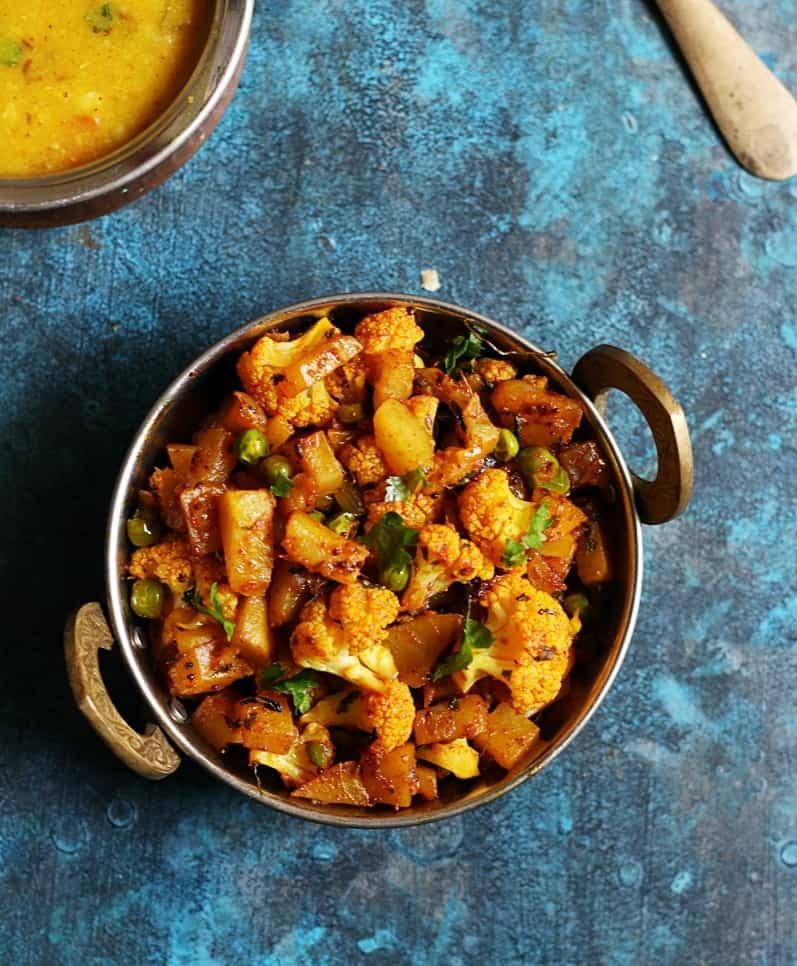AlooGobi: (129, 310, 607, 804)
